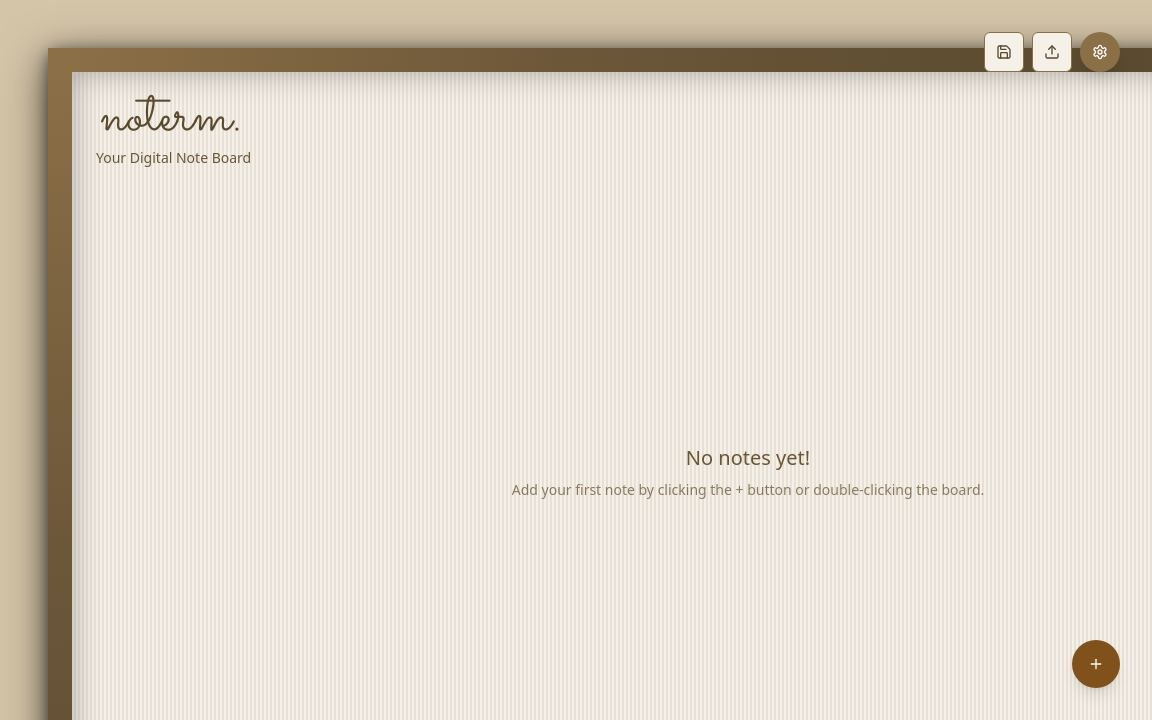
Test: Index page › Save Backup Dialog › should open save backup dialog when clicking save button
Click the 1st button at (1004, 52), box x1=984 y1=32 x2=1024 y2=72
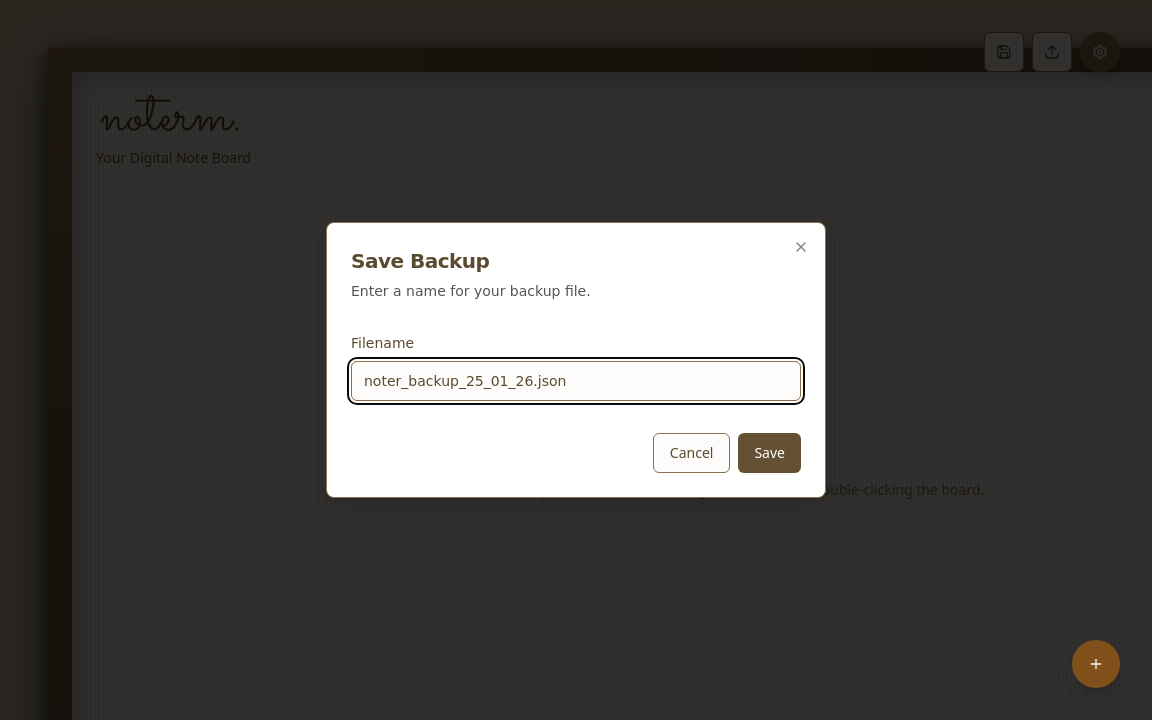
Expected: the heading "Save Backup" is shown, x1=351 y1=249 x2=489 y2=273
Expected: the text "Enter a name for your backup file." is shown, x1=351 y1=283 x2=591 y2=299
